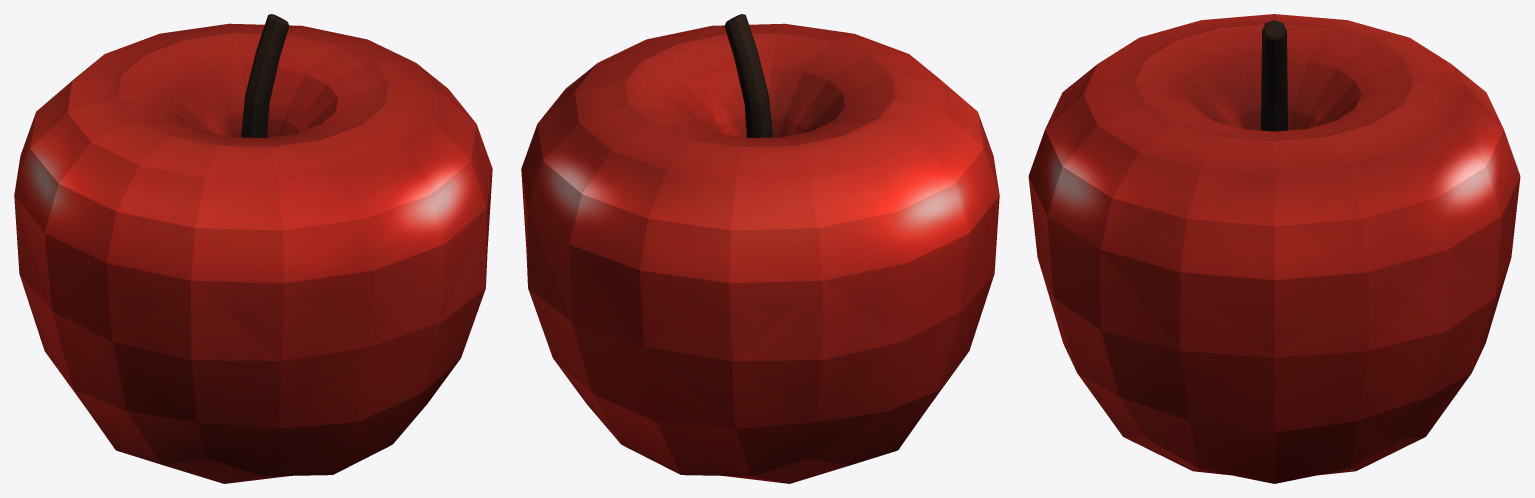
File: apple.obj
3 renders of one model, left to right at view 1: azimuth 30°, elevation 25°; view 2: azimuth 150°, elevation 25°; view 3: azimuth 270°, elevation 25°, orthographic.
Parts seen in each view (by area): view 1: Handle1.018; view 2: Handle1.018; view 3: Handle1.018.
Part boxes in pixels (x1,y1,x2,y2): Handle1.018: (14, 14, 492, 483); Handle1.018: (521, 14, 999, 483); Handle1.018: (1028, 14, 1520, 483).
Size of the model in its own units: 0.4511 by 0.4435 by 0.4511.
Materials: 1 (1 with a texture image).
